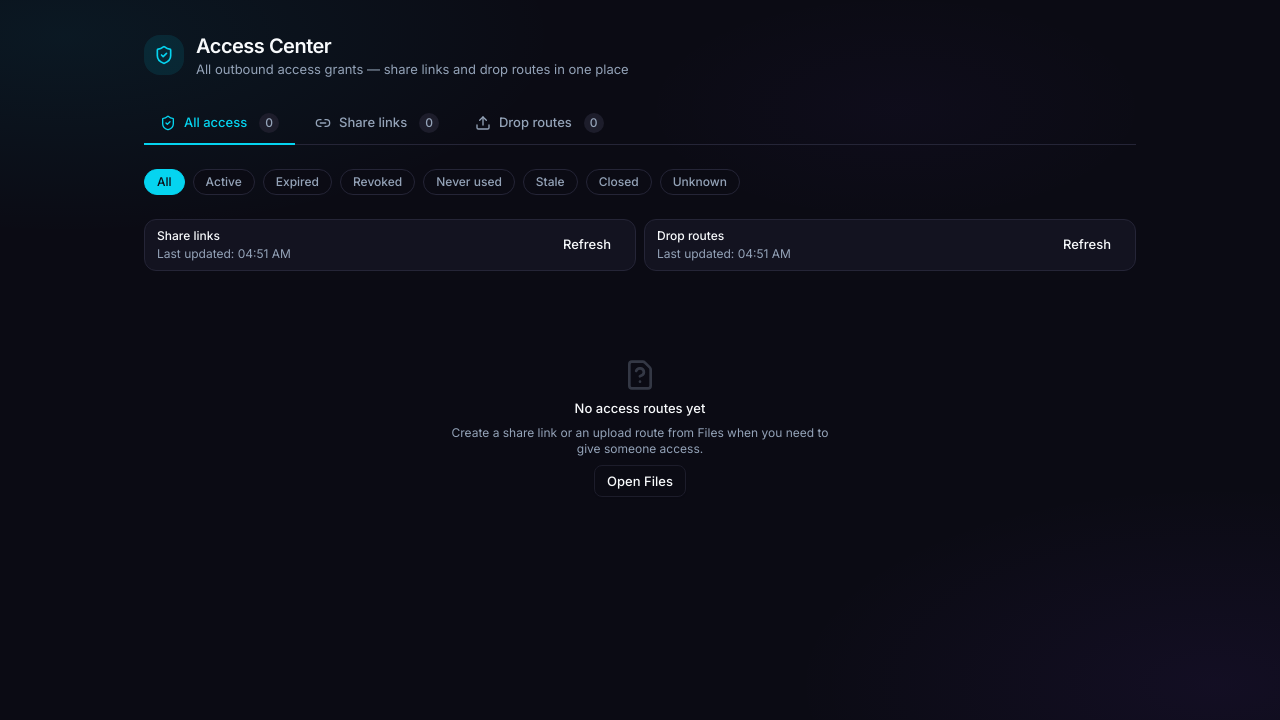
Test case: AccessCenter truthful source states › distinguishes an unused access center from a filter with no matches
Check: the text "No access routes yet" is shown, box [575,399,705,417]
Click the button "Active": (224, 182) [193,169,255,195]
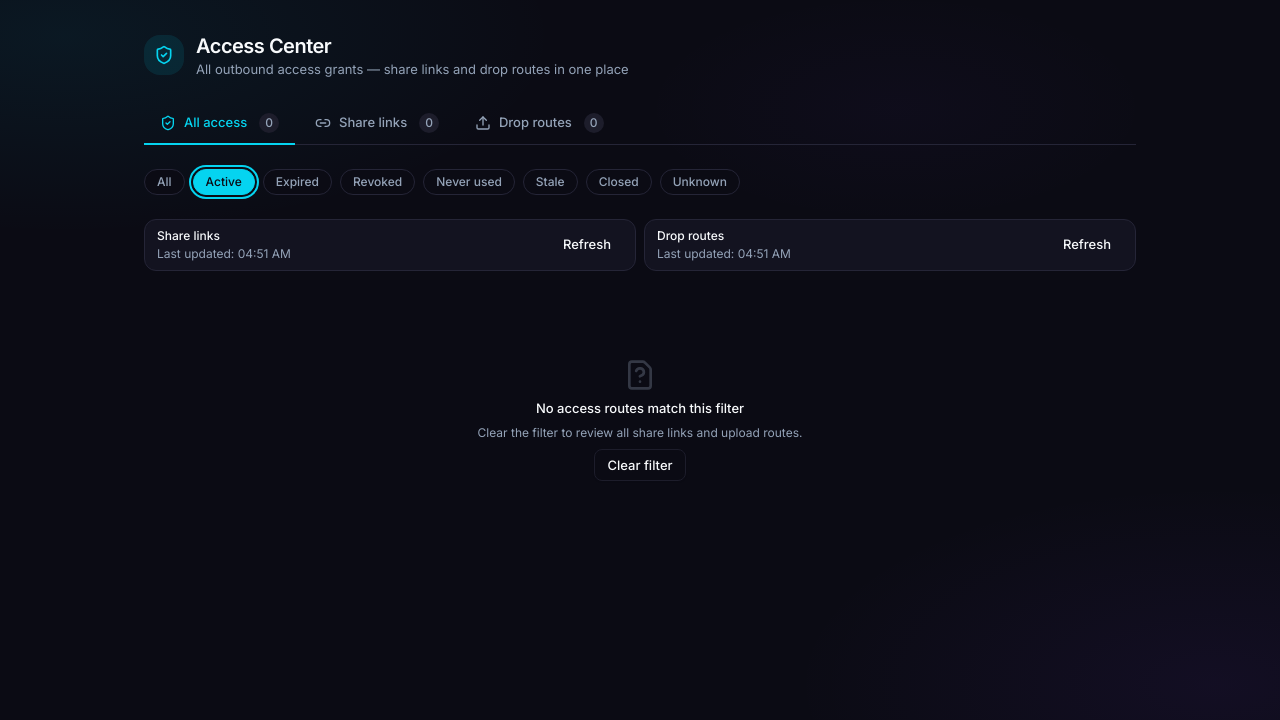
Check: the text "No access routes match this filter" is shown, box [536,399,744,417]
Click the button "Clear filter": (640, 465) [594,449,686,481]
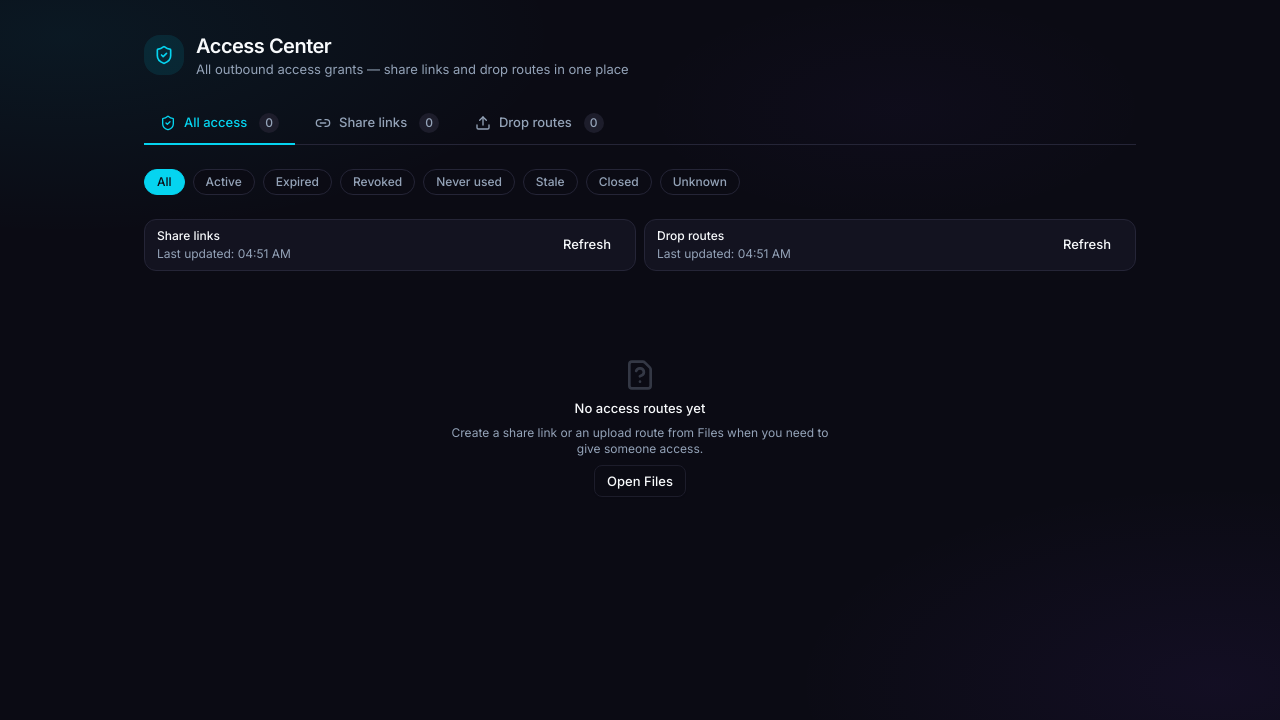
Check: the text "No access routes yet" is shown, box [575,399,705,417]
